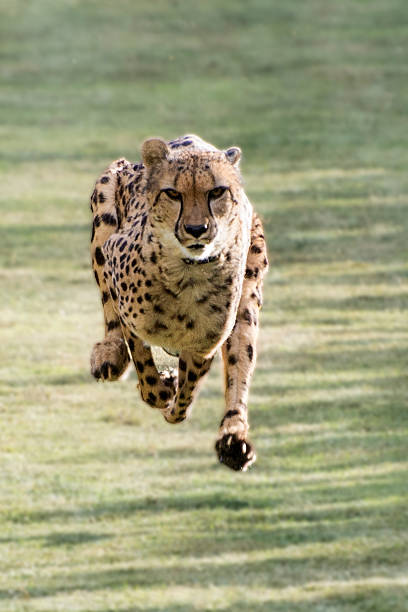cheetah: (124, 135, 251, 269)
